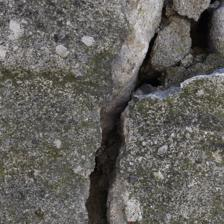Crack: (0, 42, 115, 121), (14, 90, 123, 131)
